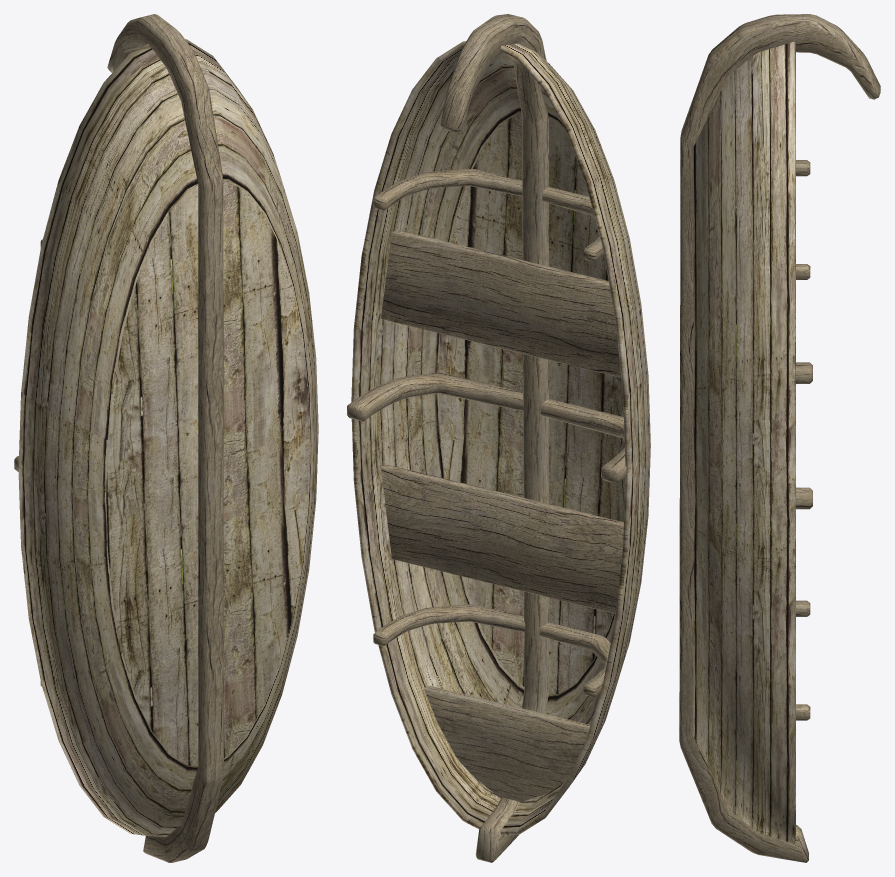
Rendered from boat.fbx.
The picture shows the model from 3 angles, left to right: view 1: azimuth 30°, elevation 25°; view 2: azimuth 150°, elevation 25°; view 3: azimuth 270°, elevation 25°; orthographic projection.
Visible parts, largest first — view 1: Cube_002; view 2: Cube_002; view 3: Cube_002.
Part boxes in pixels (x1,y1,x2,y2): Cube_002: (14,14,318,862); Cube_002: (347,14,650,862); Cube_002: (679,14,880,862).
Size of the model in its own units: 271 by 774 by 168.
